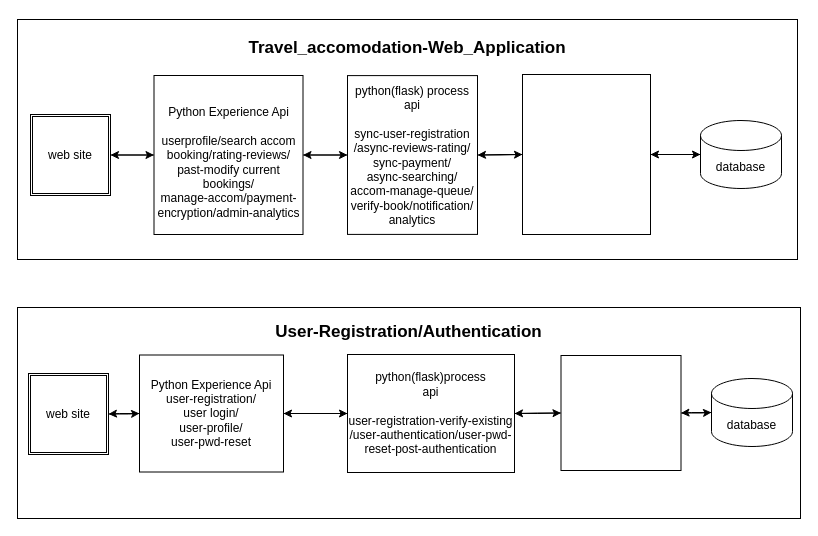
Some shapes in this 818 by 536 pixel diagram are drawn without their labels. Here are the shapes that lost their labels. From the top down, the centre of each, then its label:
point 586,154: python(flask) system api Users/Accomodations/ reviews-rating/bookings
point 620,412: Python(flask)system api crud-user/reset-pwd/authentication
